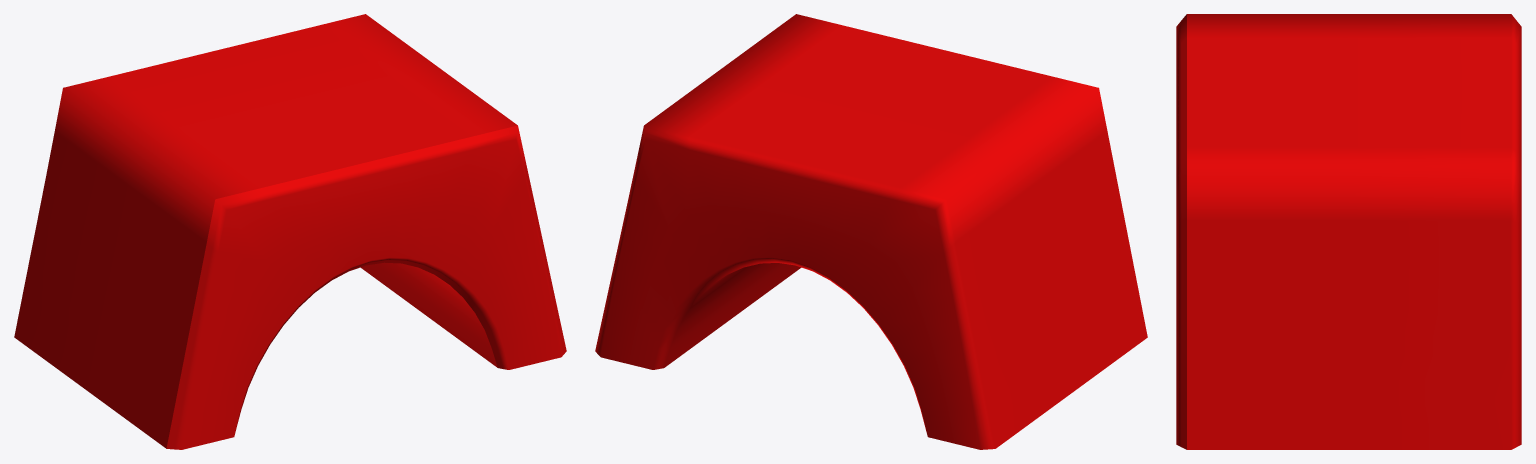
The model's file is Tunnel_Lod0.fbx.
3 renders of one model, left to right at view 1: azimuth 30°, elevation 25°; view 2: azimuth 150°, elevation 25°; view 3: azimuth 270°, elevation 25°, orthographic. The views are drawn at different scales.
Visible parts, largest first — view 1: Tunnel_Lod0; view 2: Tunnel_Lod0; view 3: Tunnel_Lod0.
Boxes of the visible parts, left/top/right/bottom form: Tunnel_Lod0: left=14, top=14, right=566, bottom=449; Tunnel_Lod0: left=595, top=14, right=1147, bottom=449; Tunnel_Lod0: left=1176, top=14, right=1521, bottom=449.
Size of the model in its own units: 1437 by 815 by 1008.
